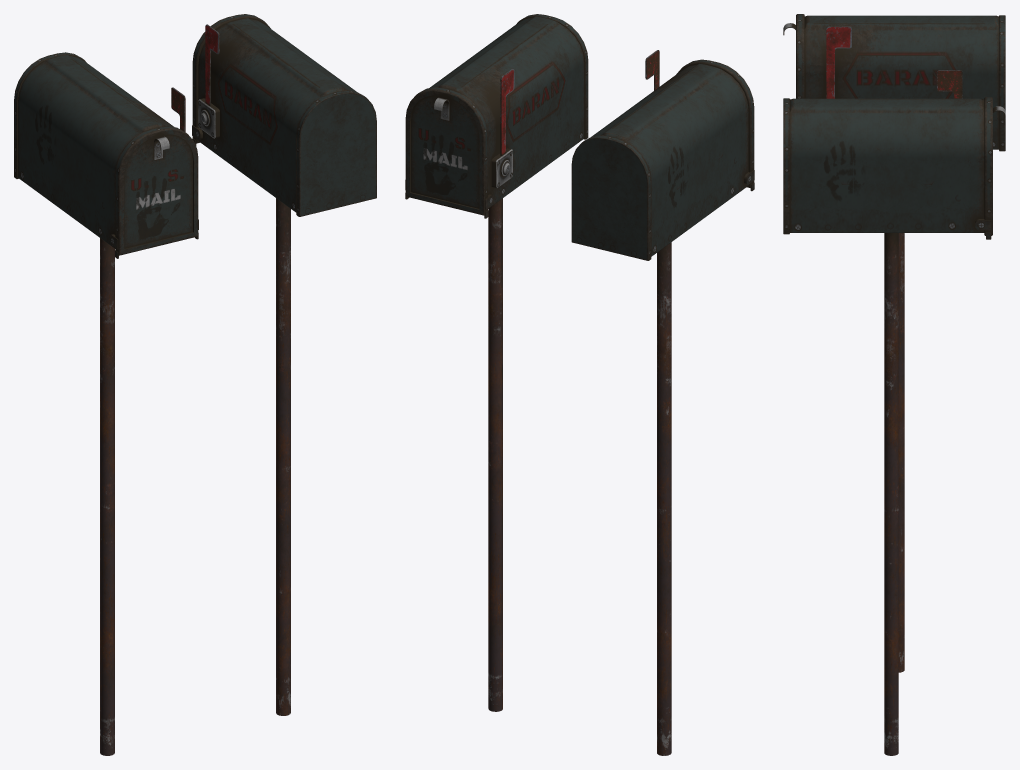
File: box__mail_-_9mb.glb
3 views of the same model, side by side, from view 1: azimuth 30°, elevation 25°; view 2: azimuth 150°, elevation 25°; view 3: azimuth 270°, elevation 25° (orthographic).
Parts seen in each view (by area): view 1: BOX_MAIL, BOX_MAIL_1; view 2: BOX_MAIL, BOX_MAIL_1; view 3: BOX_MAIL_1, BOX_MAIL.
Part boxes in pixels (x1,y1,x2,y2): BOX_MAIL: [14, 52, 198, 755]; BOX_MAIL_1: [192, 14, 376, 715]; BOX_MAIL: [571, 50, 754, 755]; BOX_MAIL_1: [405, 14, 588, 711]; BOX_MAIL_1: [783, 70, 1005, 755]; BOX_MAIL: [783, 14, 1005, 672].
Size of the model in its own units: 0.6023 by 1.52 by 0.463.
Materials: 1 (1 with a texture image).
